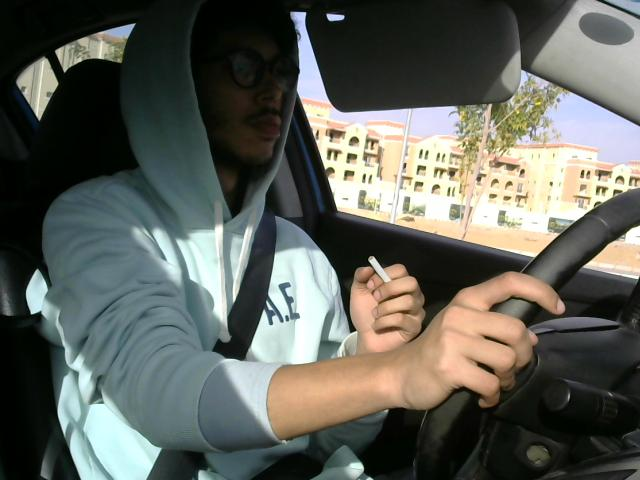Smoking: (362, 250, 409, 307)
